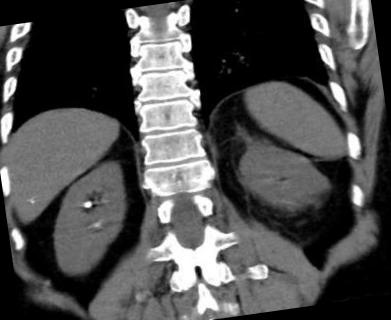Tas_Var: (79, 198, 95, 210)
